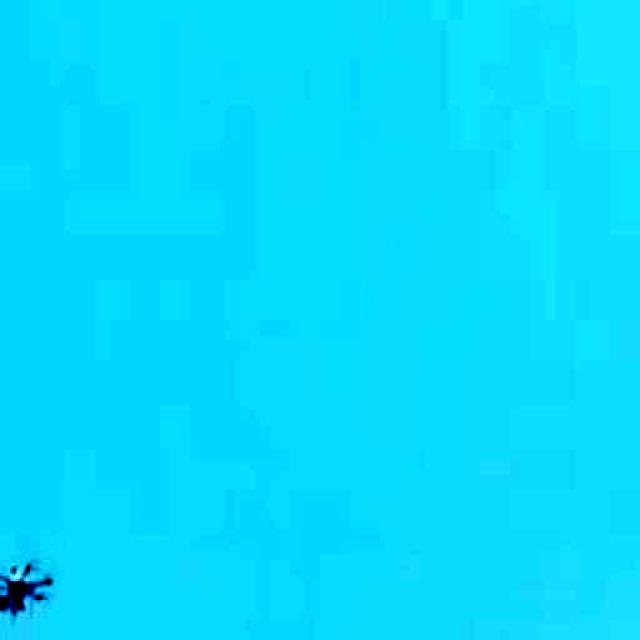bird: (0, 538, 58, 620), (616, 108, 640, 210)
